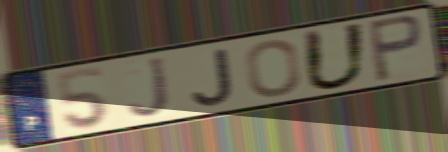5: (54, 63, 113, 132)
J: (125, 53, 175, 120), (189, 46, 237, 108)
O: (243, 37, 303, 100)
P: (365, 12, 427, 84)
U: (300, 20, 370, 93)
